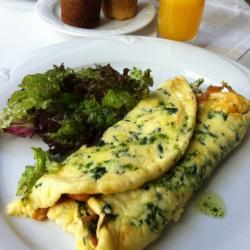omelette: (59, 81, 235, 244)
salad: (19, 67, 143, 144)
